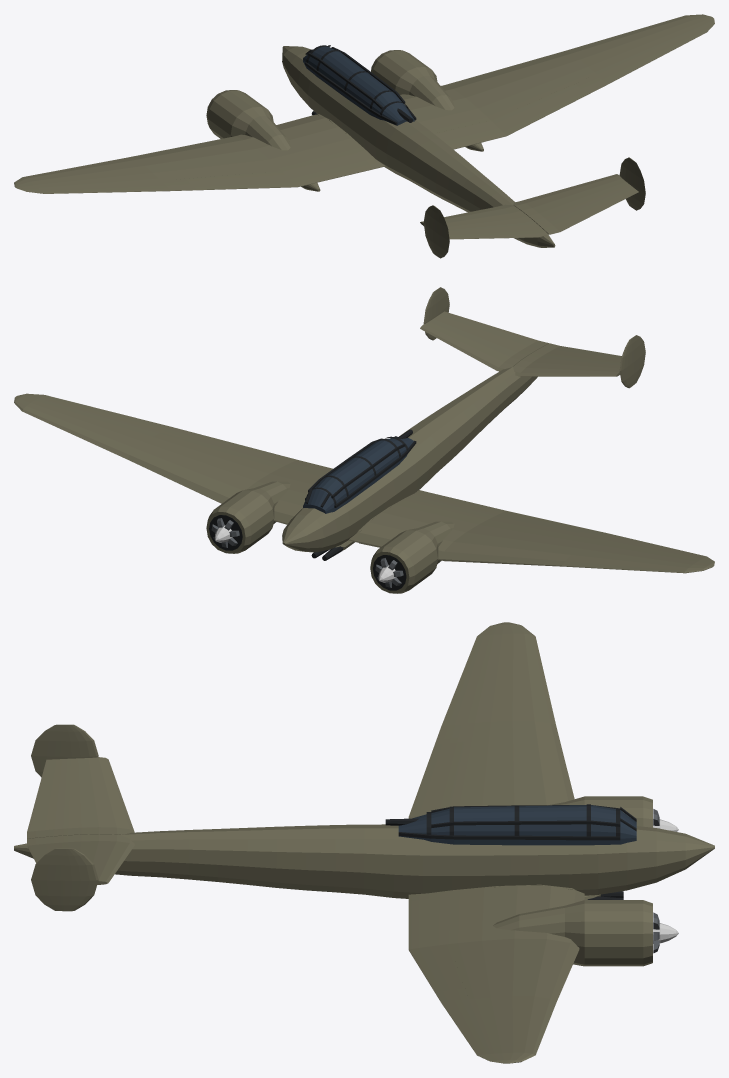
Rendered from potez631.glb.
3 renders of one model, top to bottom at view 1: azimuth 30°, elevation 25°; view 2: azimuth 150°, elevation 25°; view 3: azimuth 270°, elevation 25°, orthographic. The views are drawn at different scales.
Parts seen in each view (by area): view 1: Wing L, Wing R, Fuselage, Nacelles, Flap L, Flap R, Cockpit Glass, Stabilizer R, Stabilizer L, Aileron R, Elevator R, Canopy Frame (+5 smaller); view 2: Wing L, Wing R, Fuselage, Nacelles, Cockpit Glass, Stabilizer R, Stabilizer L, Flap L, Flap R, Canopy Frame, Elevator R, Aileron R (+5 smaller); view 3: Fuselage, Wing R, Wing L, Nacelles, Cockpit Glass, Stabilizer L, Flap R, Canopy Frame, Flap L, Elevator L, Aileron L, Stabilizer R (+5 smaller).
Part boxes in pixels (bbox=[...]): Wing L: bbox=[14, 114, 385, 193]; Wing R: bbox=[400, 14, 714, 133]; Fuselage: bbox=[282, 46, 555, 247]; Nacelles: bbox=[206, 50, 483, 191]; Flap L: bbox=[186, 152, 373, 190]; Flap R: bbox=[434, 83, 586, 149]; Cockpit Glass: bbox=[303, 46, 414, 125]; Stabilizer R: bbox=[513, 174, 629, 221]; Stabilizer L: bbox=[420, 204, 534, 231]; Aileron R: bbox=[582, 27, 707, 91]; Elevator R: bbox=[535, 185, 638, 234]; Canopy Frame: bbox=[305, 45, 416, 124]; Wing L: bbox=[349, 490, 714, 573]; Wing R: bbox=[14, 393, 321, 524]; Fuselage: bbox=[282, 366, 537, 552]; Nacelles: bbox=[206, 481, 454, 593]; Cockpit Glass: bbox=[303, 437, 413, 513]; Stabilizer R: bbox=[420, 316, 534, 371]; Stabilizer L: bbox=[513, 351, 620, 376]; Flap L: bbox=[414, 493, 586, 534]; Flap R: bbox=[186, 433, 332, 476]; Canopy Frame: bbox=[305, 436, 416, 507]; Elevator R: bbox=[437, 311, 548, 350]; Aileron R: bbox=[38, 394, 189, 437]; Fuselage: bbox=[14, 824, 714, 898]; Wing R: bbox=[408, 884, 584, 1063]; Wing L: bbox=[434, 622, 574, 806]; Nacelles: bbox=[493, 796, 652, 966]; Cockpit Glass: bbox=[398, 805, 636, 845]; Stabilizer L: bbox=[63, 757, 134, 835]; Flap R: bbox=[408, 896, 464, 991]; Canopy Frame: bbox=[398, 804, 636, 840]; Flap L: bbox=[408, 741, 464, 818]; Elevator L: bbox=[27, 759, 67, 838]; Aileron L: bbox=[436, 634, 491, 739]; Stabilizer R: bbox=[63, 834, 134, 884].
Bounding box in the file's own units: 16 × 2.1 × 10.75.
